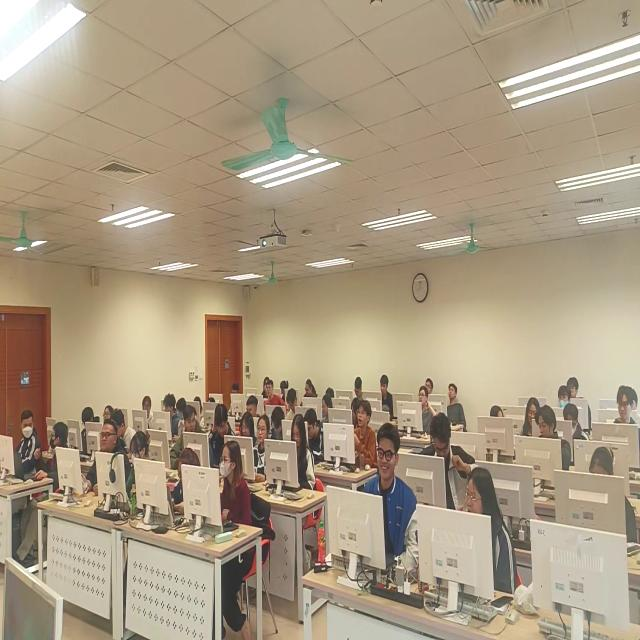raise_head: (352, 427, 415, 568), (216, 444, 253, 550), (602, 387, 640, 461), (90, 425, 127, 496), (350, 405, 377, 471), (403, 390, 433, 438), (253, 418, 272, 473), (444, 383, 465, 430), (377, 374, 396, 422), (522, 395, 544, 434), (556, 384, 573, 411), (568, 378, 580, 403), (102, 404, 115, 427), (424, 377, 435, 396)
using_computer: (452, 469, 515, 607), (570, 447, 634, 549), (418, 423, 472, 517), (280, 417, 316, 511), (528, 408, 569, 486), (164, 452, 204, 525), (126, 432, 155, 501), (208, 406, 235, 466), (561, 403, 588, 451), (156, 395, 180, 444), (306, 411, 325, 463), (297, 379, 319, 410), (286, 391, 304, 423), (351, 374, 367, 402)
